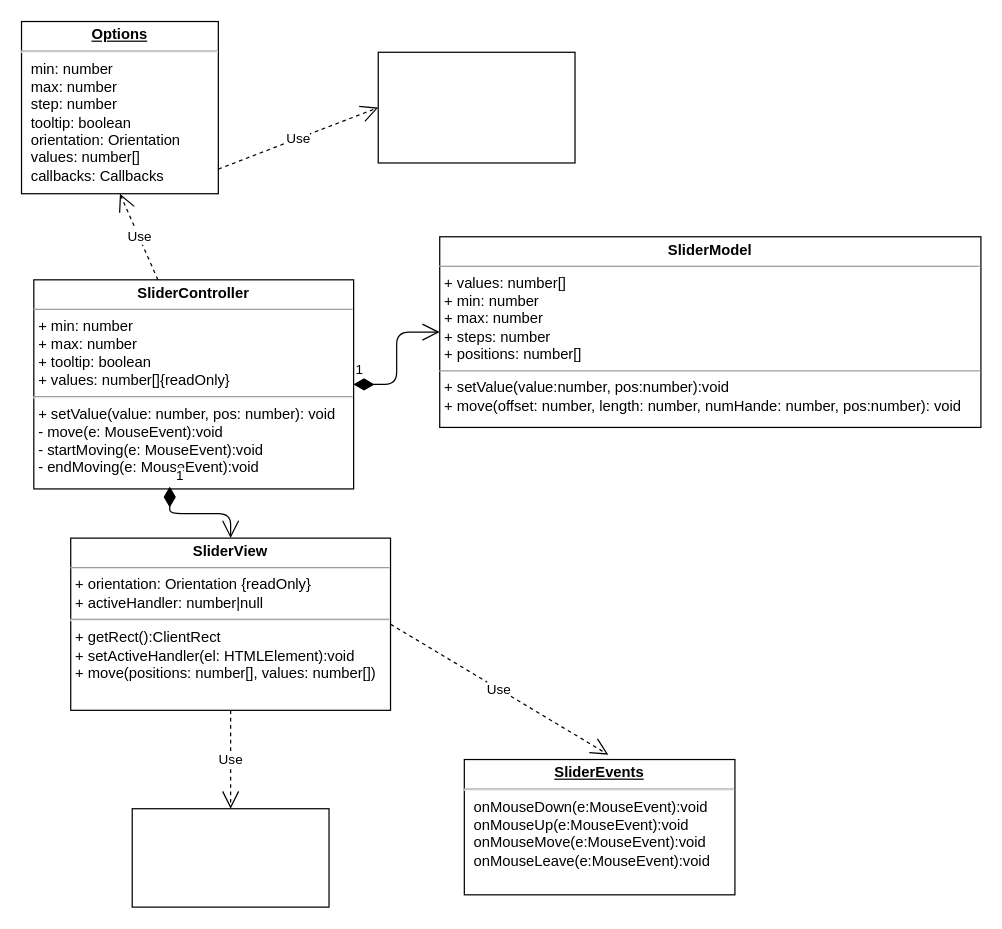
Some shapes in this 1002 by 929 pixel diagram are drawn without their labels. The centre of each missing label's shape, as x and y in pixels:
Callbacks onMove: (val:number[]):void: point 476,107
Orientation Vertical = 0, Horizontal = 1: point 230,857
